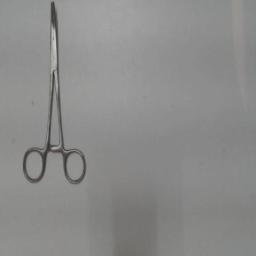Crile Artery Forceps: (16, 1, 90, 191)
